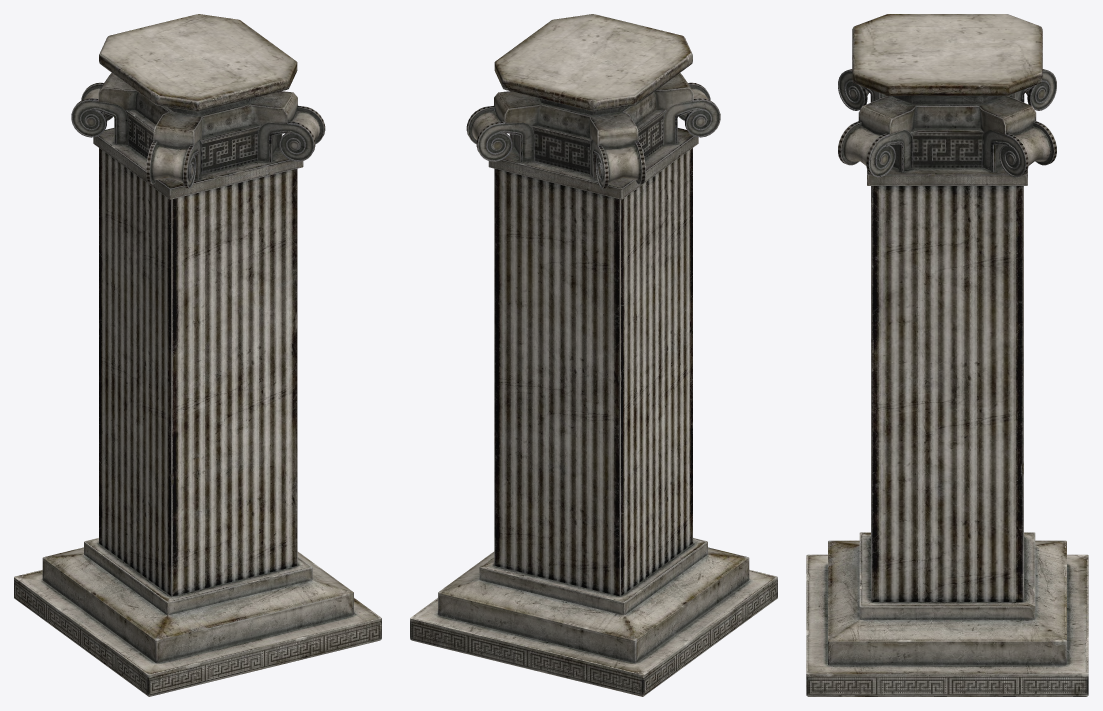
File: bk-ionic-pedestal.glb
3 views of the same model, side by side, from view 1: azimuth 30°, elevation 25°; view 2: azimuth 150°, elevation 25°; view 3: azimuth 270°, elevation 25° (orthographic). The views are drawn at different scales.
Visible parts, largest first — view 1: Squared Ionic Classical Pedestal.001; view 2: Squared Ionic Classical Pedestal.001; view 3: Squared Ionic Classical Pedestal.001.
Part boxes in pixels (x1,y1,x2,y2): Squared Ionic Classical Pedestal.001: (14, 14, 381, 696); Squared Ionic Classical Pedestal.001: (410, 14, 777, 696); Squared Ionic Classical Pedestal.001: (806, 14, 1088, 696).
Size of the model in its own units: 0.4352 by 1 by 0.4345.
Materials: 1 (1 with a texture image).
